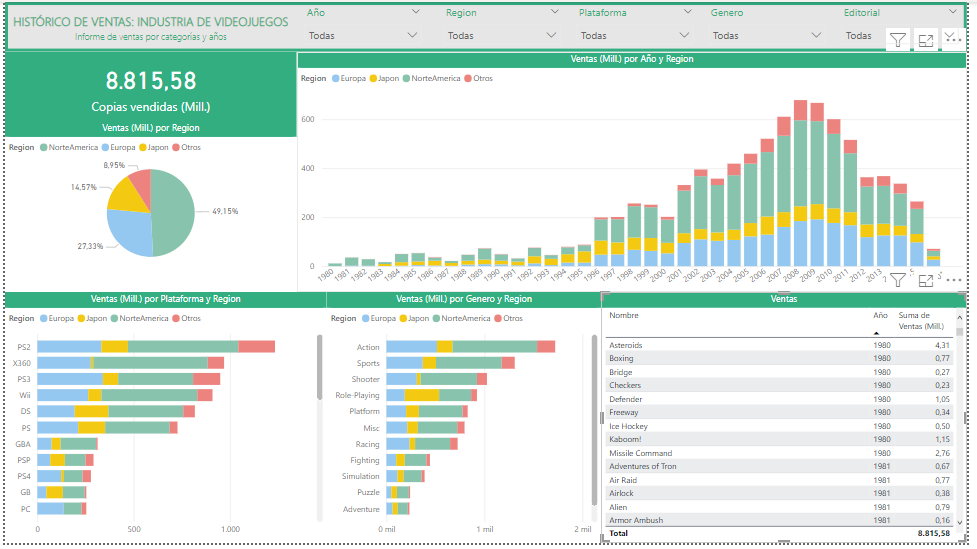

The page's visual inventory and layout, read from the dashboard file:
{"tool":"powerbi","page":{"name":"Analisis Ventas","canvas":[1280,720],"ordinal":0},"visuals":[{"type":"shape","box":[0,0,1280,66.1],"z":0},{"type":"tableEx","title":"Ventas","fields":{"Values":["Ventas Videojuegos.Nombre","Ventas Videojuegos.Año","Sum(Ventas Videojuegos.Ventas (Mill.))"]},"box":[793.2,386,487.1,334],"z":1000},{"type":"columnChart","fields":{"Category":["Ventas Videojuegos.Año"],"Y":["Sum(Ventas Videojuegos.Ventas (Mill.))"],"Series":["Ventas Videojuegos.Region"]},"box":[388.1,66.1,891.9,319.3],"z":2000},{"type":"pieChart","fields":{"Category":["Ventas Videojuegos.Region"],"Y":["Sum(Ventas Videojuegos.Ventas (Mill.))"]},"box":[0,158.3,388.1,202.3],"z":3000},{"type":"barChart","fields":{"Y":["Sum(Ventas Videojuegos.Ventas (Mill.))"],"Series":["Ventas Videojuegos.Region"],"Category":["Ventas Videojuegos.Plataforma"]},"box":[0,385.4,428,334.5],"z":4000},{"type":"barChart","fields":{"Y":["Sum(Ventas Videojuegos.Ventas (Mill.))"],"Series":["Ventas Videojuegos.Region"],"Category":["Ventas Videojuegos.Genero"]},"box":[428,385.4,364.7,334.5],"z":5000},{"type":"card","fields":{"Values":["Sum(Ventas Videojuegos.Ventas (Mill.))"]},"box":[0,66.1,388.1,92.2],"z":6000},{"type":"slicer","fields":{"Values":["Ventas Videojuegos.Año"]},"box":[388.6,0,154.4,91.8],"z":7000},{"type":"slicer","fields":{"Values":["Ventas Videojuegos.Region"]},"box":[543,0,149.1,91.8],"z":8000},{"type":"slicer","fields":{"Values":["Ventas Videojuegos.Plataforma"]},"box":[712,0,161,91.8],"z":9000},{"type":"slicer","fields":{"Values":["Ventas Videojuegos.Genero"]},"box":[873,0,175.7,91.8],"z":10000},{"type":"slicer","fields":{"Values":["Ventas Videojuegos.Editorial"]},"box":[1036.7,0,177,91.8],"z":11000},{"type":"textbox","box":[0,9.6,388.1,56.4],"z":12000},{"type":"actionButton","box":[1220,2.5,60,43.8],"z":12001}]}

Visuals, with their boxes in screenshot pixels (x1, y1, x2, y2), scaled from the page's 1280x720 canvas onto the 977x549 screenshot:
shape: [left=0, top=0, right=976, bottom=50]
"Ventas" tableEx: [left=605, top=294, right=976, bottom=548]
columnChart - Ventas Videojuegos.Año x Sum(Ventas Videojuegos.Ventas (Mill.)): [left=296, top=50, right=976, bottom=294]
pieChart - Ventas Videojuegos.Region x Sum(Ventas Videojuegos.Ventas (Mill.)): [left=0, top=121, right=296, bottom=275]
barChart - Sum(Ventas Videojuegos.Ventas (Mill.)) x Ventas Videojuegos.Region: [left=0, top=294, right=327, bottom=548]
barChart - Sum(Ventas Videojuegos.Ventas (Mill.)) x Ventas Videojuegos.Region: [left=327, top=294, right=605, bottom=548]
card - Sum(Ventas Videojuegos.Ventas (Mill.)): [left=0, top=50, right=296, bottom=121]
slicer - Ventas Videojuegos.Año: [left=297, top=0, right=414, bottom=70]
slicer - Ventas Videojuegos.Region: [left=414, top=0, right=528, bottom=70]
slicer - Ventas Videojuegos.Plataforma: [left=543, top=0, right=666, bottom=70]
slicer - Ventas Videojuegos.Genero: [left=666, top=0, right=800, bottom=70]
slicer - Ventas Videojuegos.Editorial: [left=791, top=0, right=926, bottom=70]
textbox: [left=0, top=7, right=296, bottom=50]
actionButton: [left=931, top=2, right=976, bottom=35]
